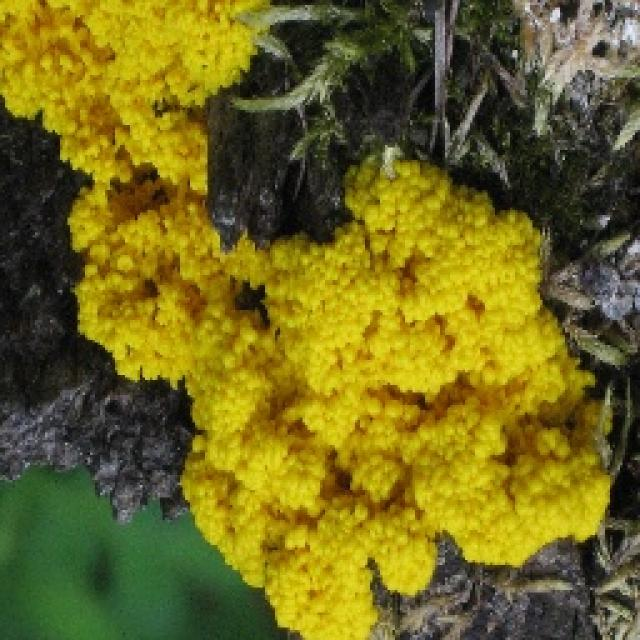Dog_vomit_slime_mold: (0, 3, 629, 633)
